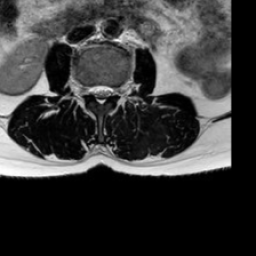CCS_normal: (97, 73, 104, 112)
LFS_normal: (112, 76, 120, 104)
LLS_normal: (104, 77, 113, 104)
RFS_normal: (81, 74, 89, 103)
RLS_normal: (89, 75, 97, 103)
